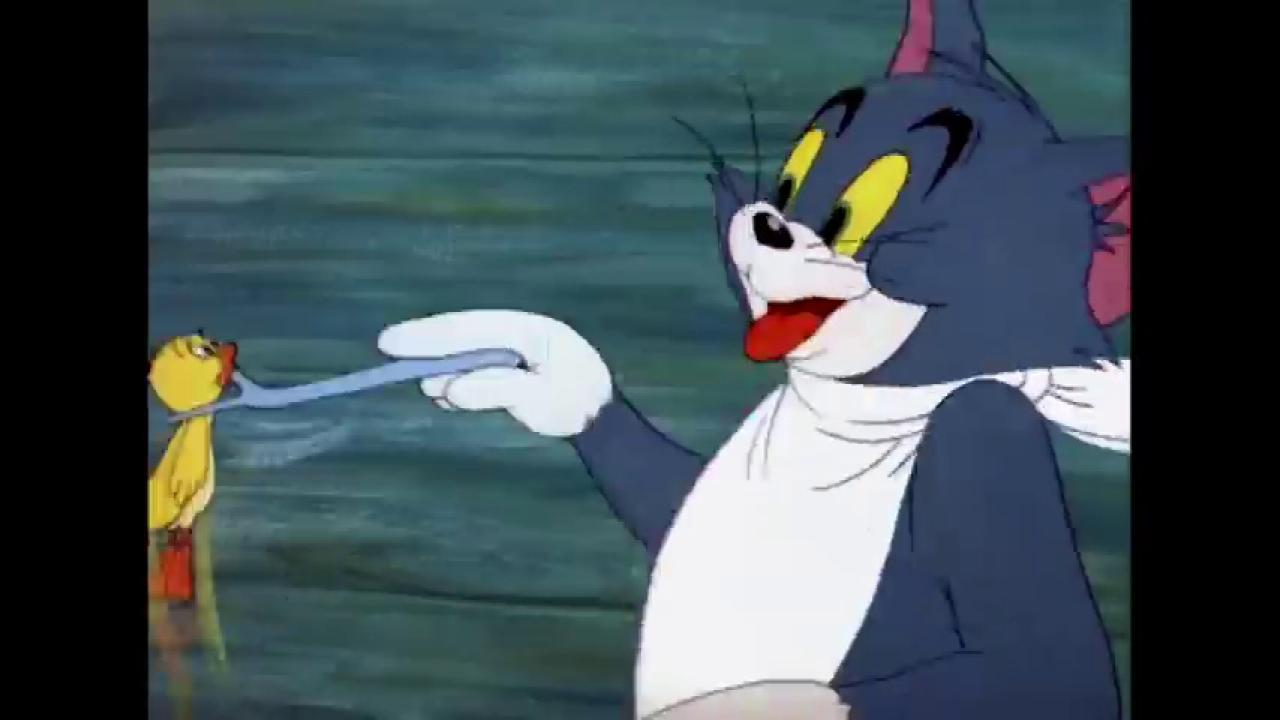Tom: (374, 0, 1130, 716)
